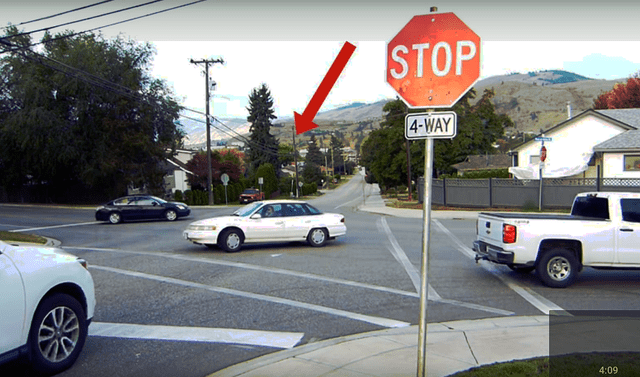stop: (380, 9, 488, 110)
